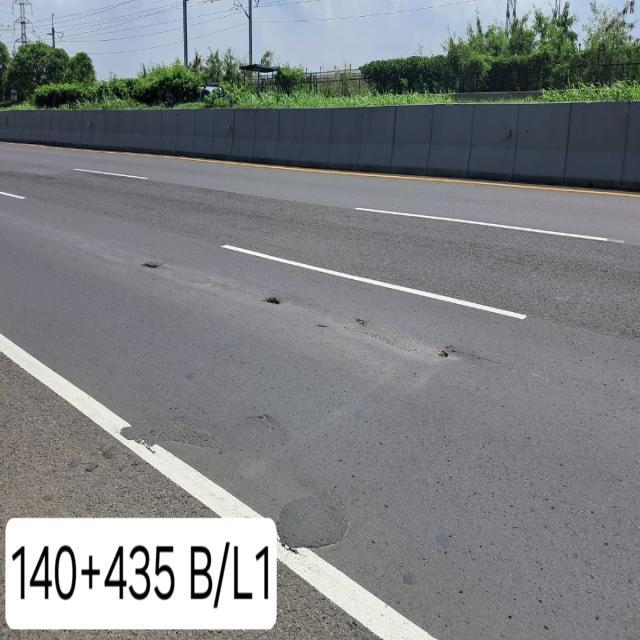Buraco: (429, 343, 464, 362), (138, 260, 164, 270), (259, 296, 283, 306)
